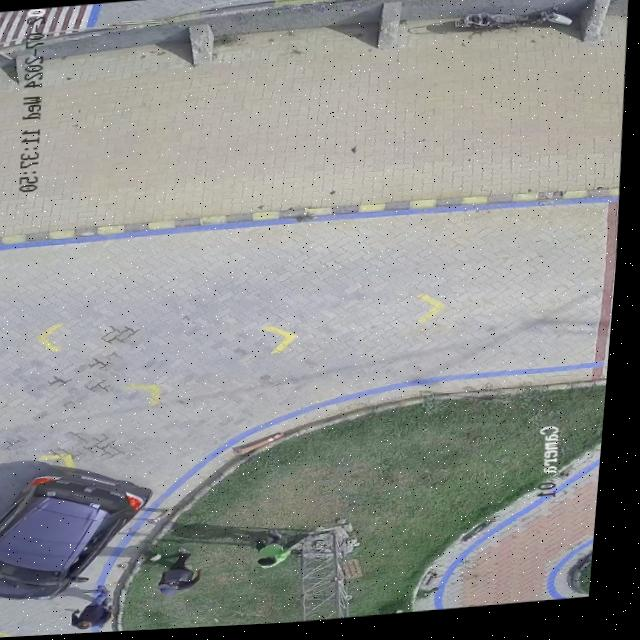car: (0, 461, 161, 599)
